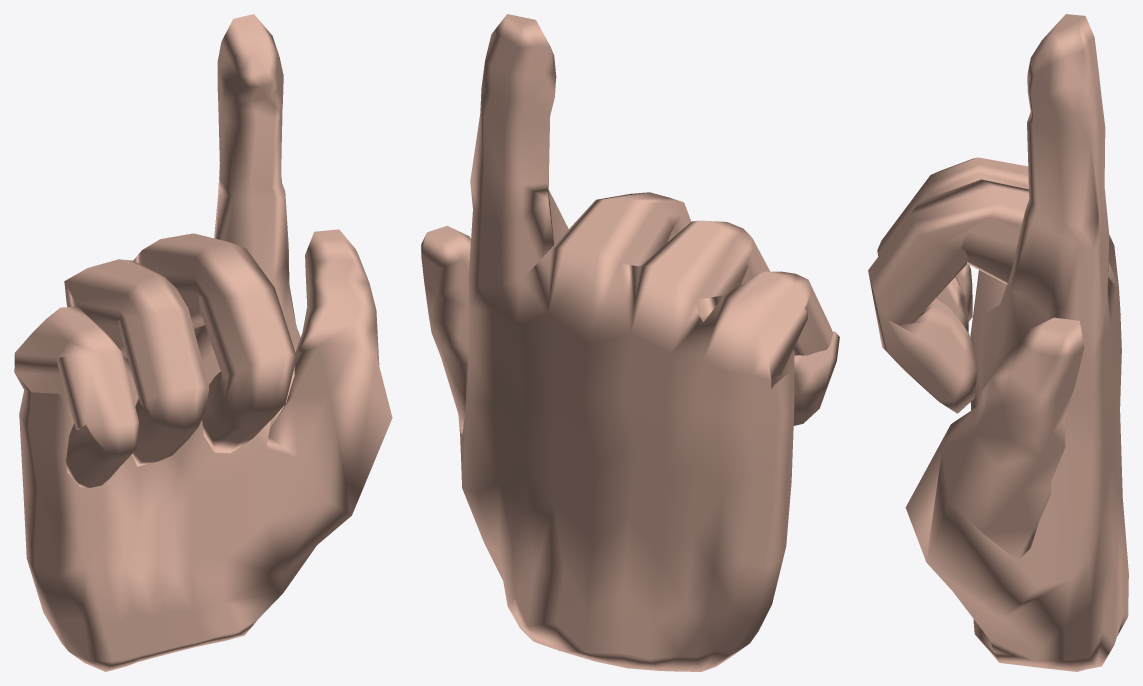
The model's file is MAO_G.obj.
3 renders of one model, left to right at view 1: azimuth 30°, elevation 25°; view 2: azimuth 150°, elevation 25°; view 3: azimuth 270°, elevation 25°, orthographic. The views are drawn at different scales.
Visible parts, largest first — view 1: mao_dir:mao_dir; view 2: mao_dir:mao_dir; view 3: mao_dir:mao_dir.
Boxes of the visible parts, <box> form: mao_dir:mao_dir: <box>14,14,392,671</box>; mao_dir:mao_dir: <box>421,14,839,671</box>; mao_dir:mao_dir: <box>868,14,1128,671</box>.
Bounding box in the file's own units: 139 × 227 × 80.54.
